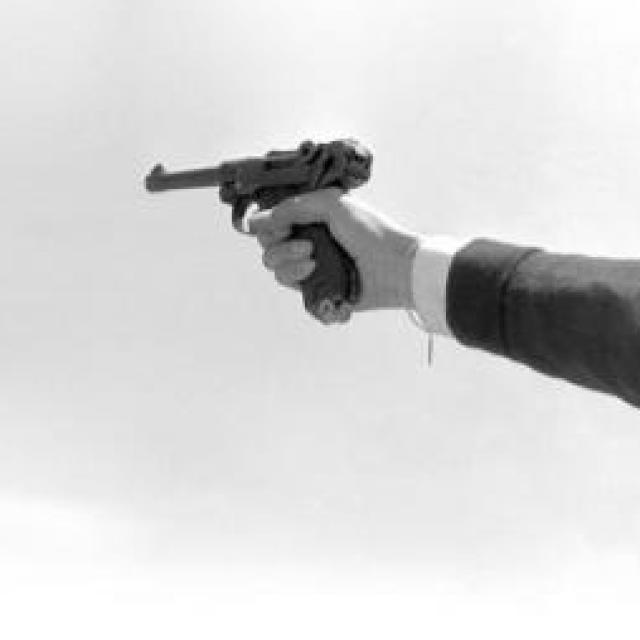pistol: (144, 136, 370, 325)
